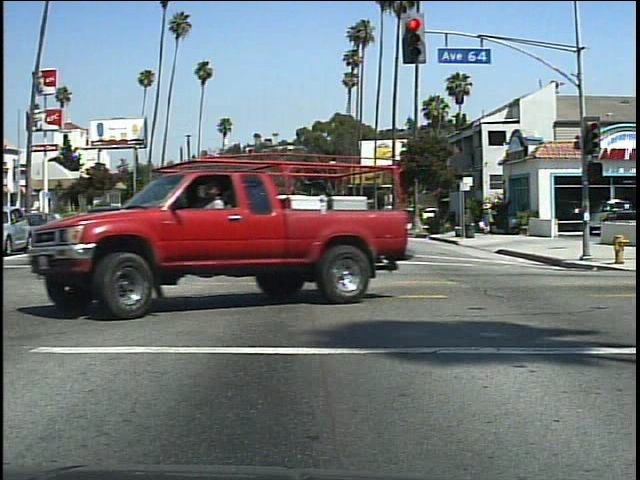person: (201, 176, 242, 302), (480, 199, 499, 237)
